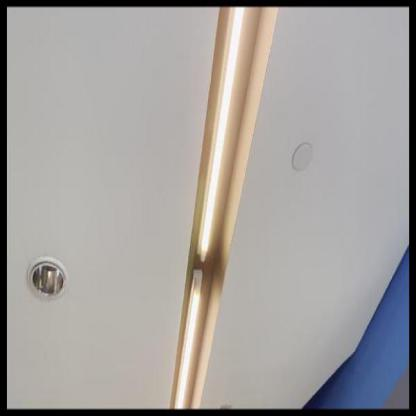light_on: (191, 7, 253, 270), (169, 270, 208, 409)
